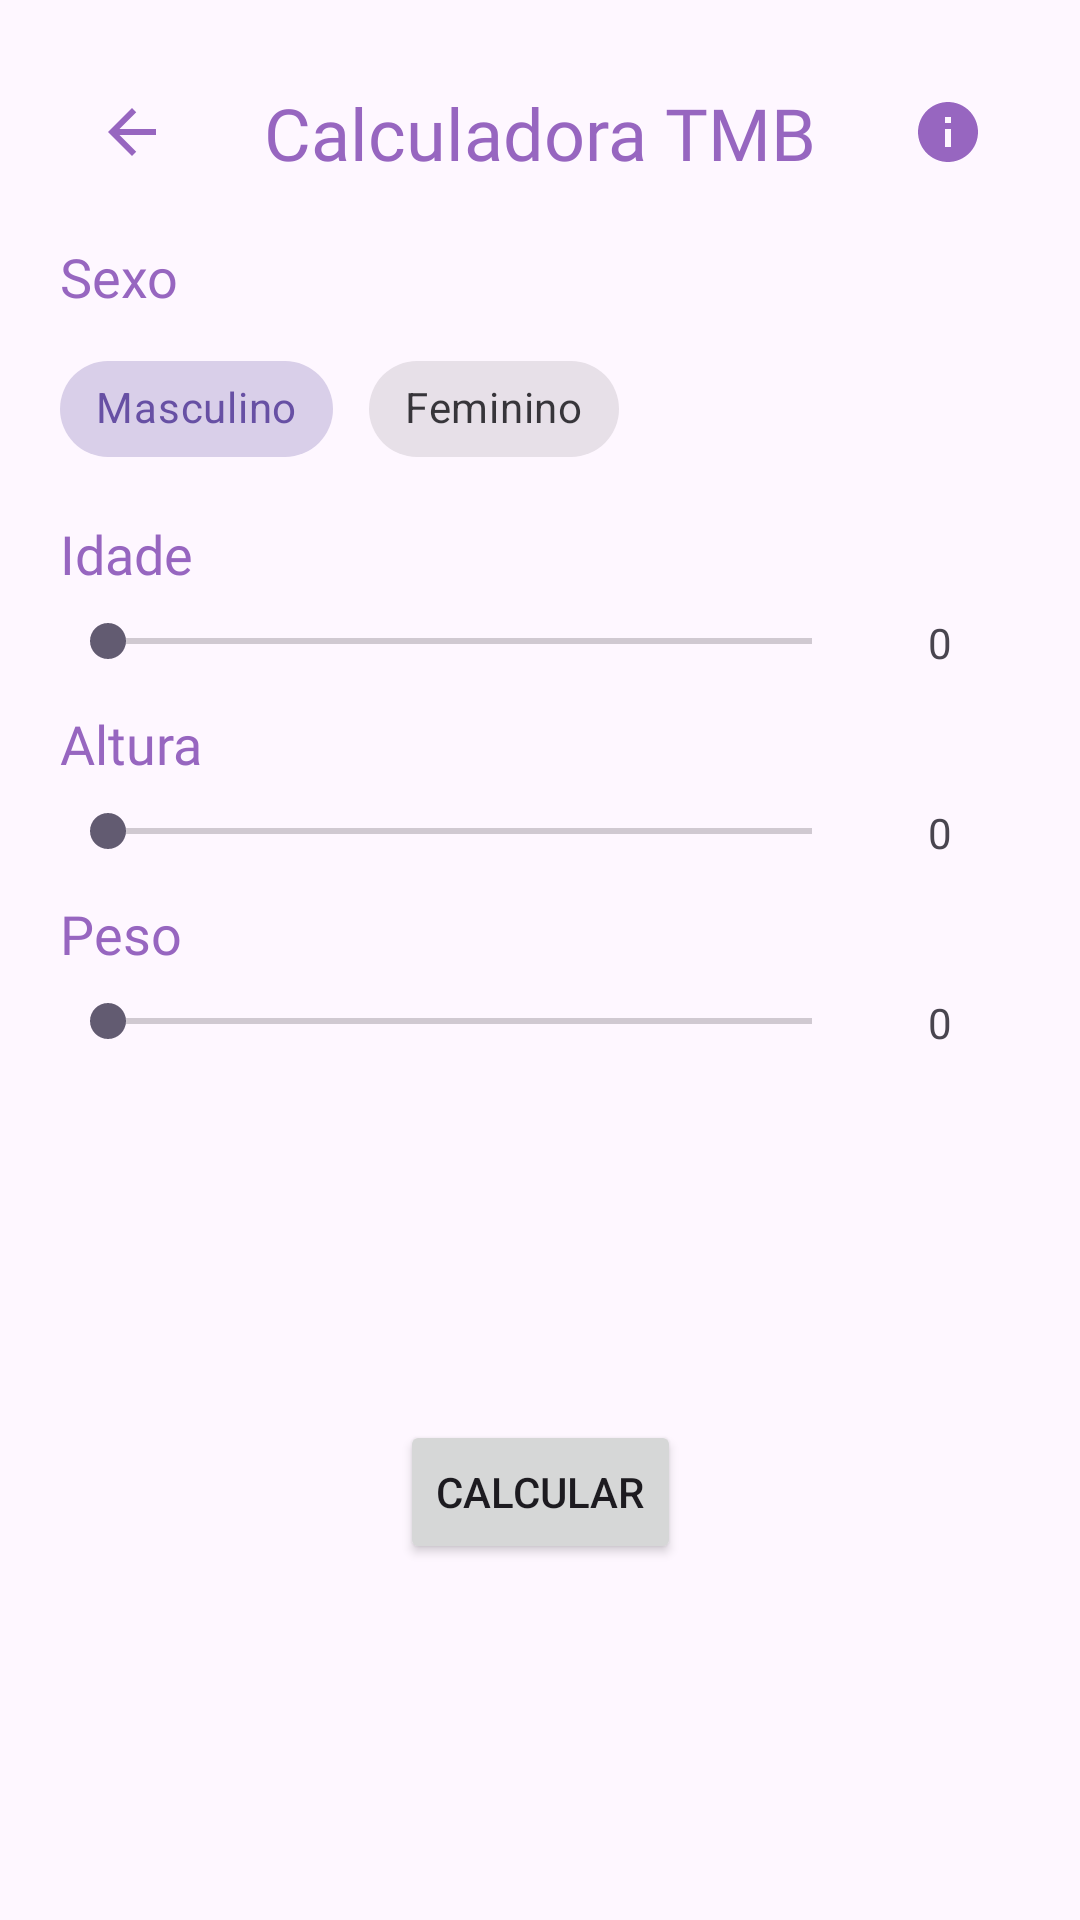

Screen size 1080px×1920px. Icon name, then its center in pixels as (x,y):
O que é TMB?: (948,132)
Voltar: (132,132)
